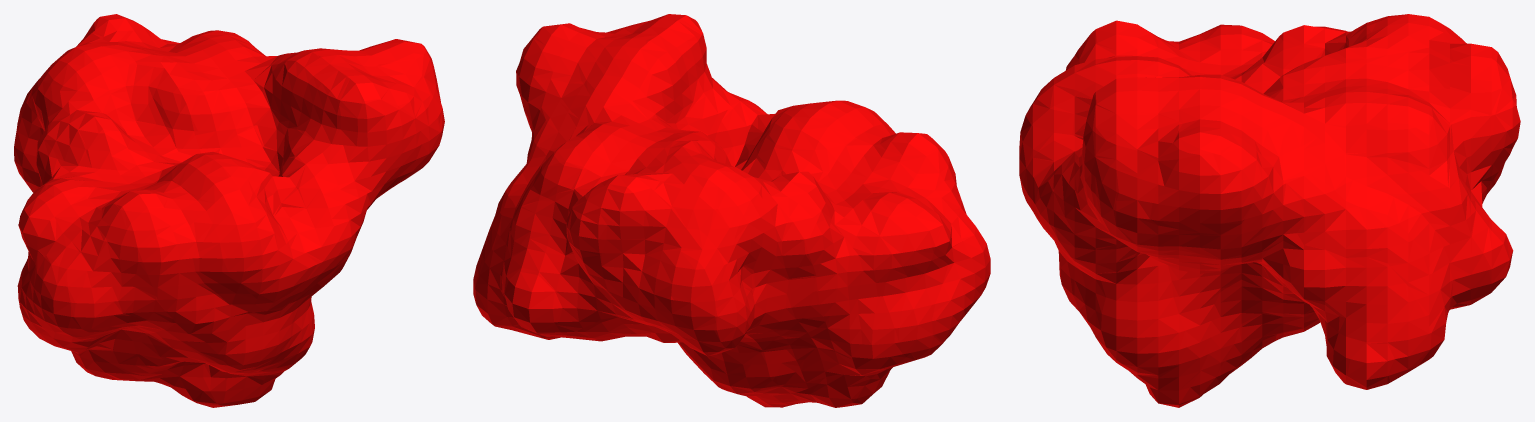
File: mrr_coarse.dae
3 renders of one model, left to right at view 1: azimuth 30°, elevation 25°; view 2: azimuth 150°, elevation 25°; view 3: azimuth 270°, elevation 25°, orthographic. The views are drawn at different scales.
Parts seen in each view (by area): view 1: mrr; view 2: mrr; view 3: mrr.
Boxes of the visible parts, x1=… form: mrr: x1=14, y1=14, x2=444, y2=407; mrr: x1=473, y1=14, x2=990, y2=407; mrr: x1=1019, y1=14, x2=1520, y2=407.
Bounding box in the file's own units: 66.17 × 48.77 × 58.05.
